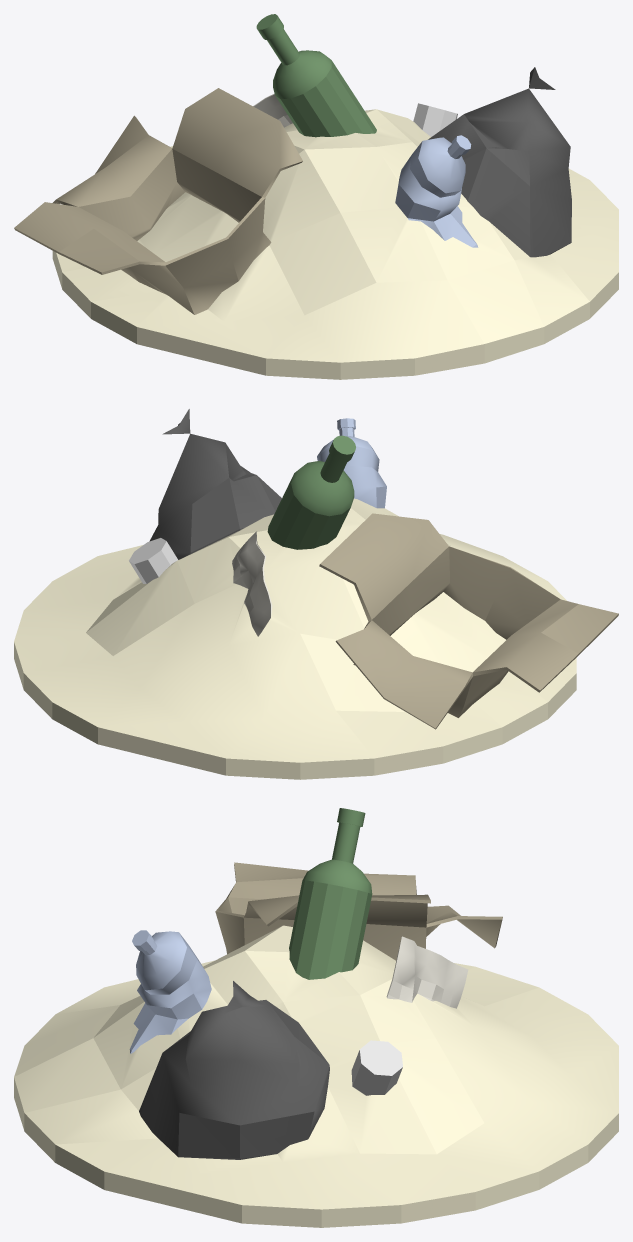
File: rubbishPile_(notUVd).fbx
3 views of the same model, one above another, from view 1: azimuth 30°, elevation 25°; view 2: azimuth 150°, elevation 25°; view 3: azimuth 270°, elevation 25° (orthographic). The views are drawn at different scales.
Visible parts, largest first — view 1: polySurface1; view 2: polySurface1; view 3: polySurface1.
Boxes of the visible parts, x1,y1,x2,y2 form: polySurface1: (14,14,618,379); polySurface1: (14,409,618,779); polySurface1: (14,808,618,1227).
Size of the model in its own units: 2.14 by 0.9408 by 1.97.
